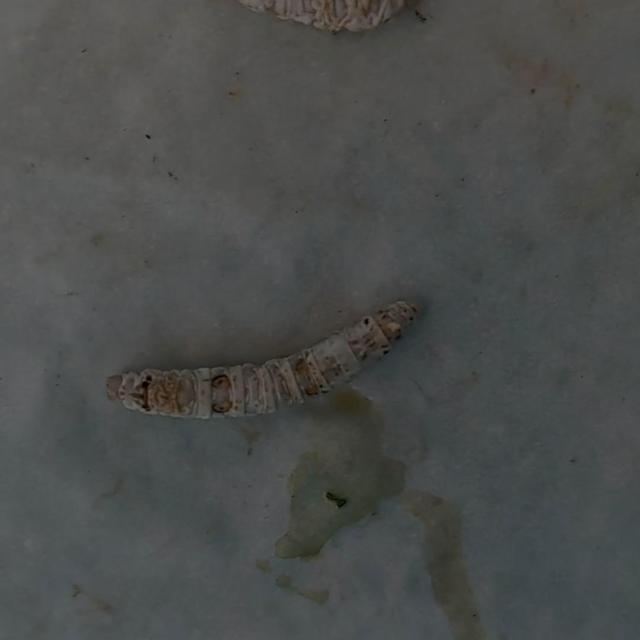Grasserie: (91, 286, 427, 426)
